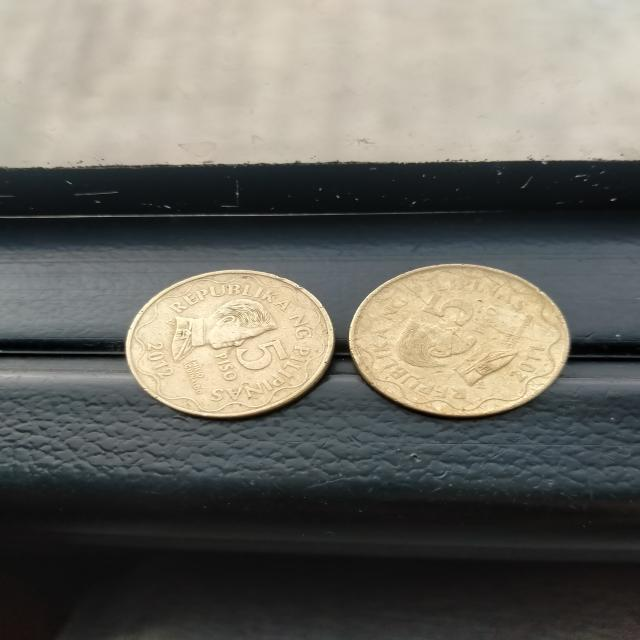5_Old_Front: (204, 331, 290, 388), (423, 284, 498, 340)
